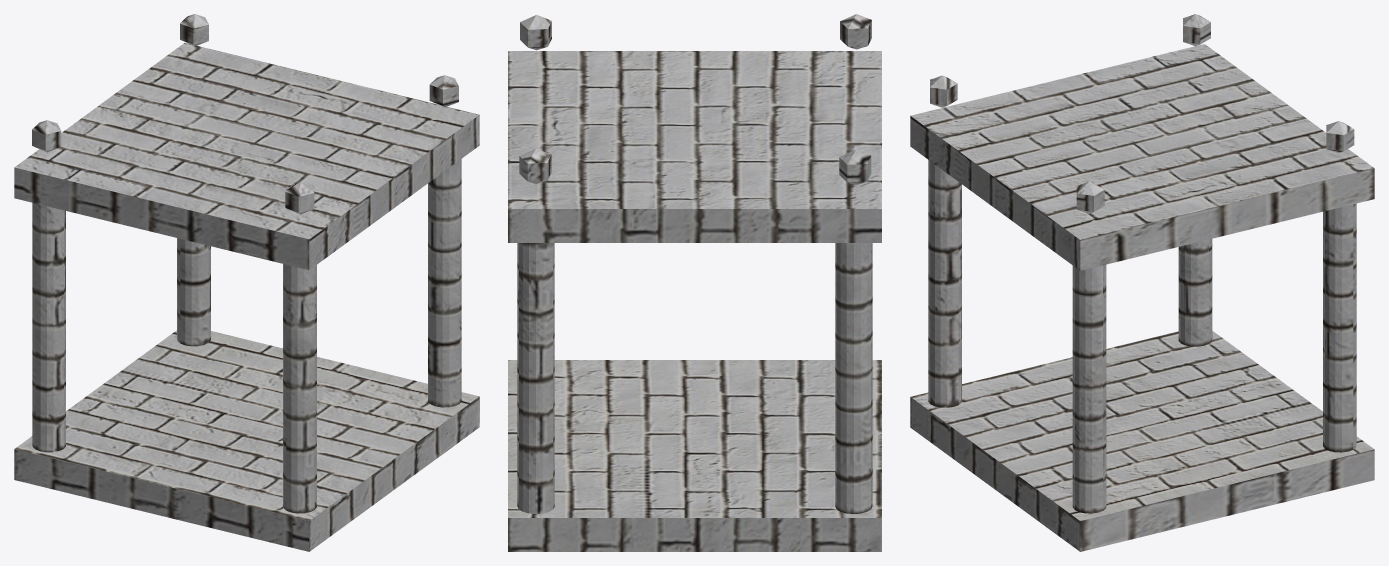
File: GateBlock.gltf
3 renders of one model, left to right at view 1: azimuth 30°, elevation 25°; view 2: azimuth 150°, elevation 25°; view 3: azimuth 270°, elevation 25°, orthographic. The views are drawn at different scales.
Visible parts, largest first — view 1: Cylinder; view 2: Cylinder; view 3: Cylinder.
Boxes of the visible parts, box(x1,y1,x2,y2) form: Cylinder: box(14, 14, 479, 551); Cylinder: box(508, 14, 881, 551); Cylinder: box(910, 14, 1374, 551).
Bounding box in the file's own units: 5.46 × 4.62 × 5.46.
